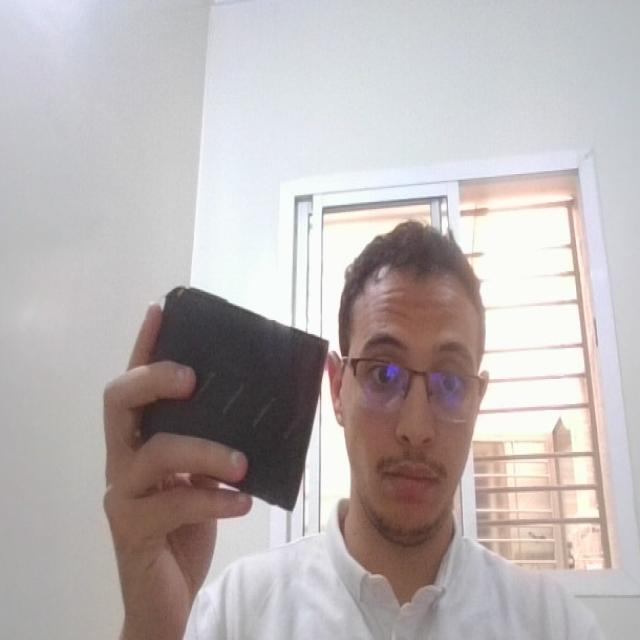wallet: (127, 264, 337, 520)
